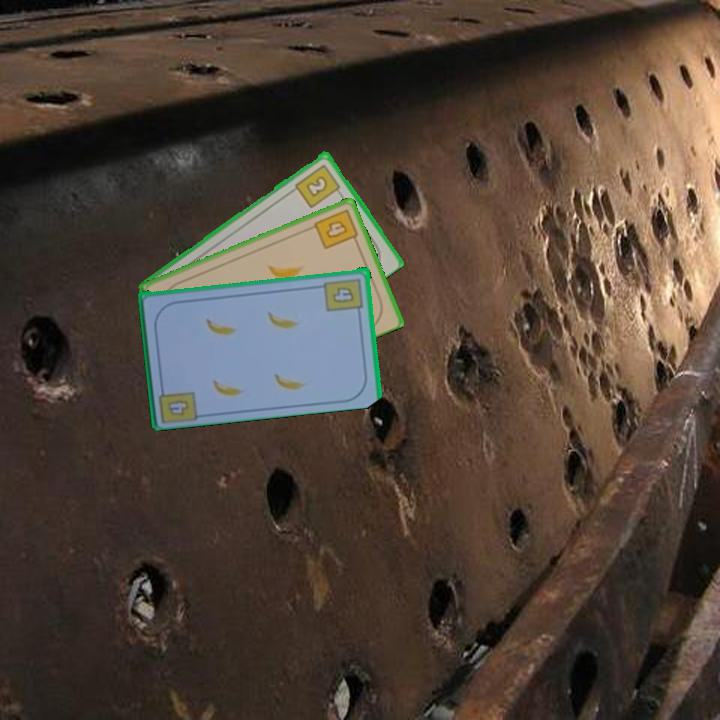2b: (292, 160, 345, 210)
4b: (310, 205, 361, 252), (156, 380, 200, 424), (322, 274, 366, 317)
